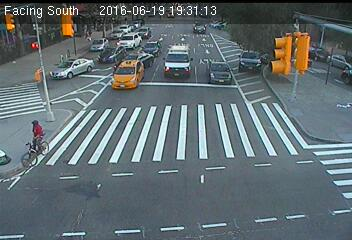neg: (9, 106, 60, 173)
